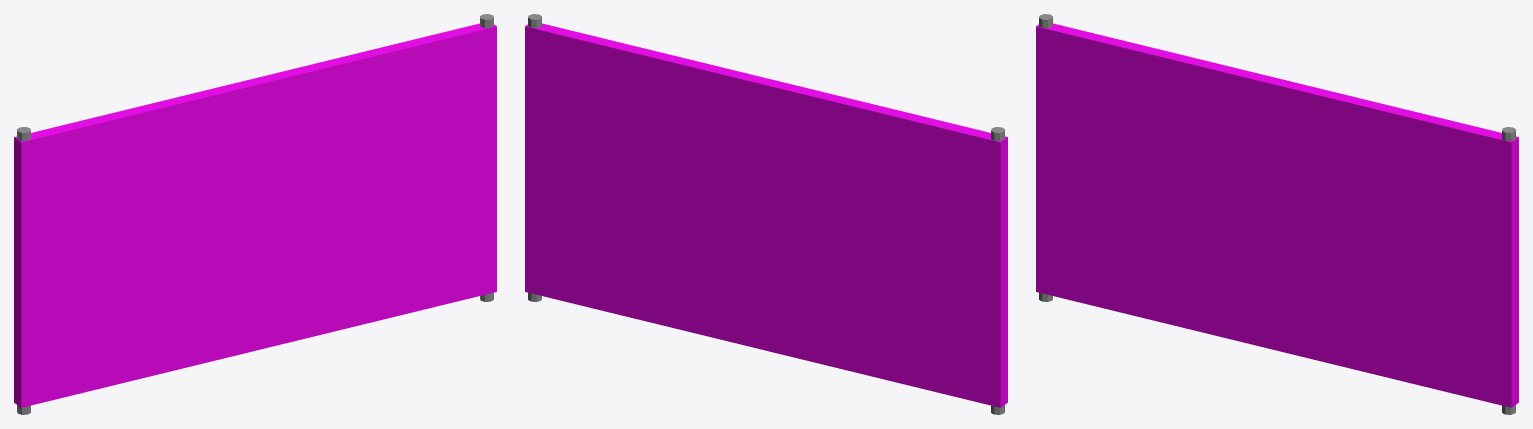
The model's file is safetynet_orange_tall_3m.dae.
The picture shows the model from 3 angles, left to right: view 1: azimuth 30°, elevation 25°; view 2: azimuth 150°, elevation 25°; view 3: azimuth 330°, elevation 25°; orthographic projection.
Visible parts, largest first — view 1: Colmesh_panel-1; view 2: Colmesh_panel-1; view 3: Colmesh_panel-1.
Part boxes in pixels (x1,y1,x2,y2): Colmesh_panel-1: (14, 23, 496, 407); Colmesh_panel-1: (525, 23, 1007, 407); Colmesh_panel-1: (1036, 23, 1518, 407).
Size of the model in its own units: 3 by 0.08 by 1.7.
